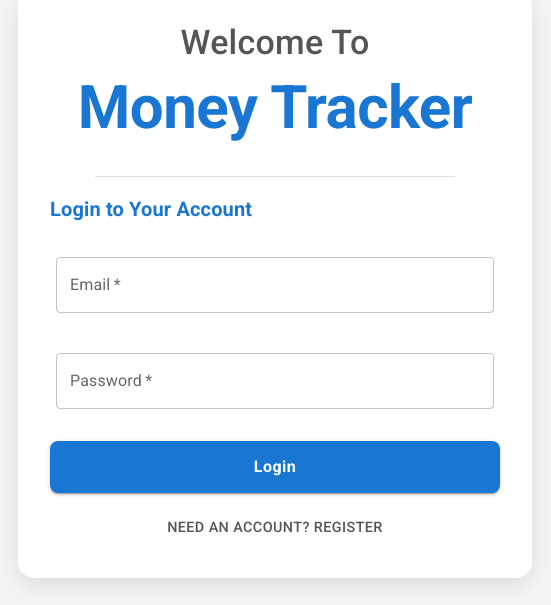
Test: Login Page › disables submit button when loading
Type "a@b.com" into the field labelled "Email *".
click(275, 285); type("a@b.com")  # box [56,257,494,313]
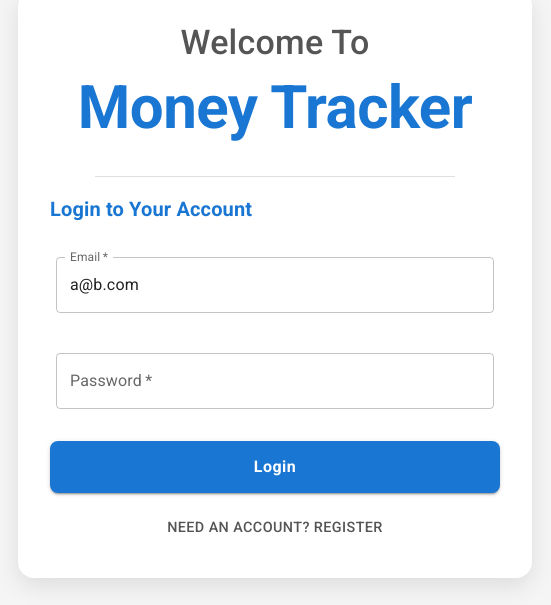
Type "Abcdefg1!" into the password field labelled "Password *".
click(275, 381); type("Abcdefg1!")  # box [56,353,494,409]
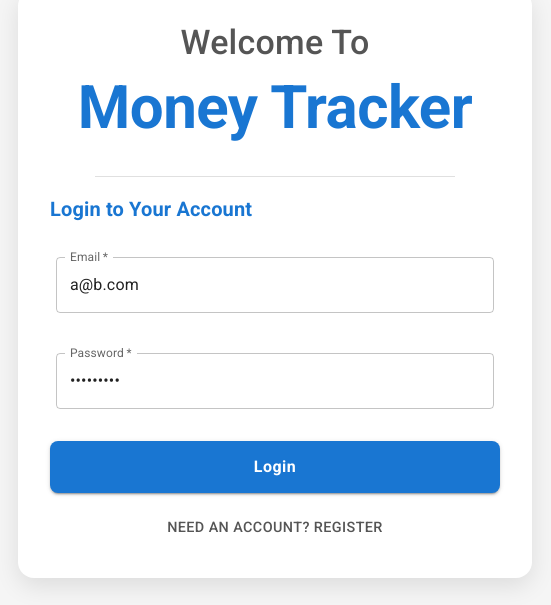
Click the button "Login".
click(275, 467)  # box [50,441,500,493]
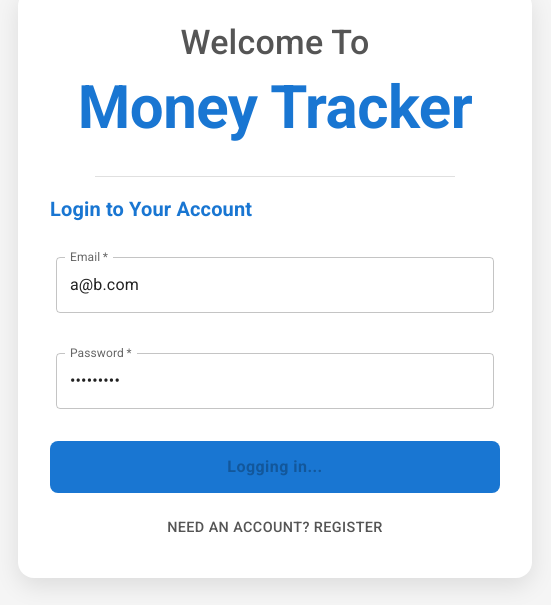
Now the button "Logging in..." is disabled, box [50,441,500,493]
